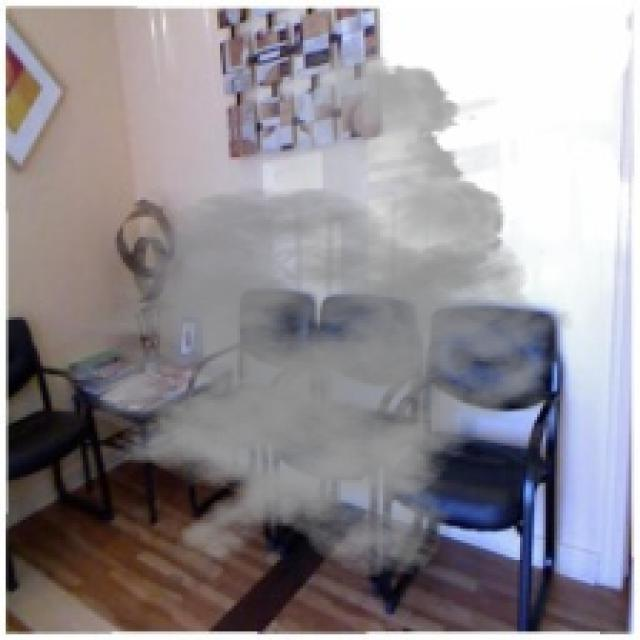Smoke: (28, 37, 574, 580)
